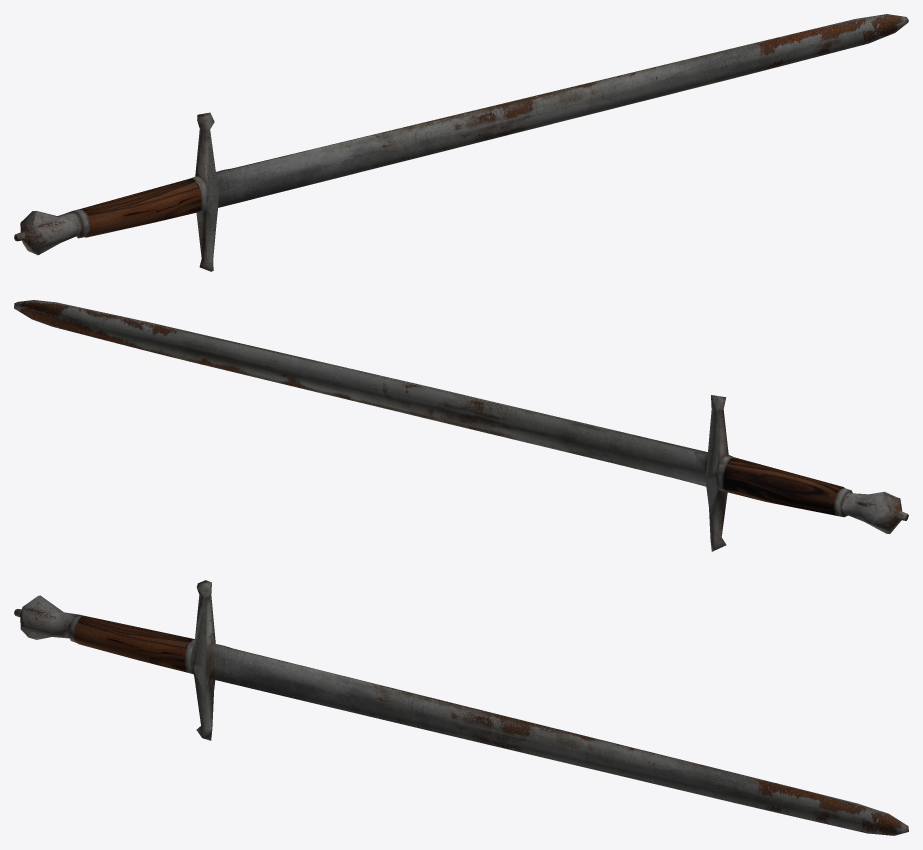
Rendered from sword.glb.
3 renders of one model, top to bottom at view 1: azimuth 30°, elevation 25°; view 2: azimuth 150°, elevation 25°; view 3: azimuth 330°, elevation 25°, orthographic.
Visible parts, largest first — view 1: uitlbiaga_LOD0_TIER3_000_MatID_1_0; view 2: uitlbiaga_LOD0_TIER3_000_MatID_1_0; view 3: uitlbiaga_LOD0_TIER3_000_MatID_1_0.
Part boxes in pixels (<box>): uitlbiaga_LOD0_TIER3_000_MatID_1_0: <box>14,14,908,271</box>; uitlbiaga_LOD0_TIER3_000_MatID_1_0: <box>14,300,908,551</box>; uitlbiaga_LOD0_TIER3_000_MatID_1_0: <box>14,580,908,835</box>.
Bounding box in the file's own units: 103 × 17.45 × 4.77.
Materials: 1 (1 with a texture image).
